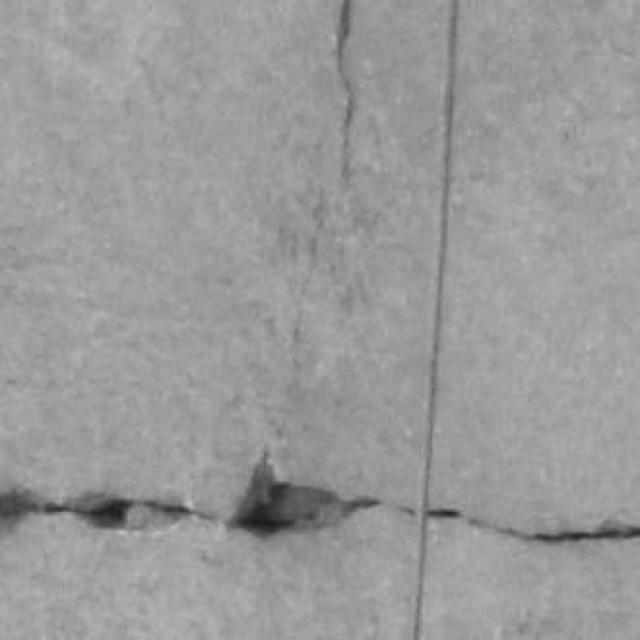crack: (0, 489, 221, 533), (0, 489, 217, 531), (429, 509, 639, 544), (336, 0, 354, 184)
